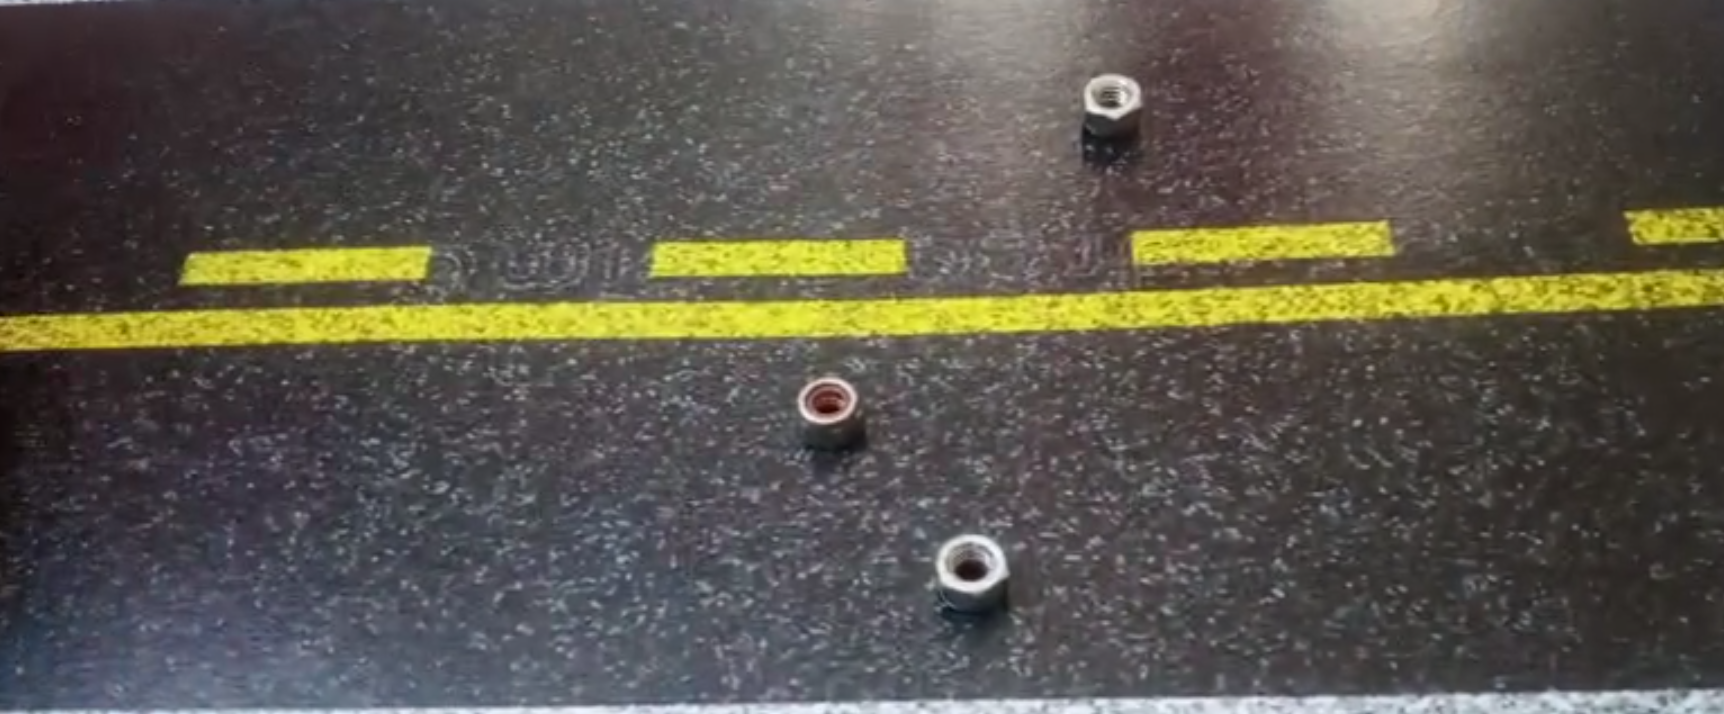metal: (930, 532, 1021, 615), (791, 376, 874, 449), (1077, 74, 1149, 136)
